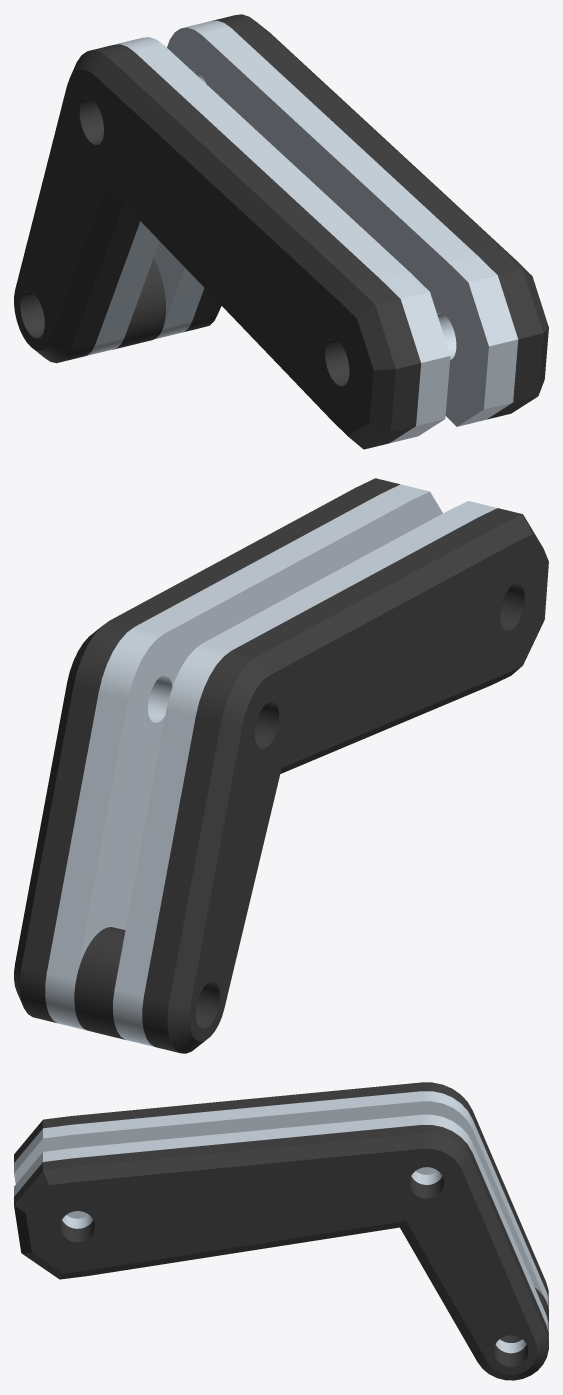
File: Top Back Linkage.glb
3 views of the same model, one above another, from view 1: azimuth 30°, elevation 25°; view 2: azimuth 150°, elevation 25°; view 3: azimuth 270°, elevation 25° (orthographic). The views are drawn at different scales.
Parts seen in each view (by area): view 1: Top Back Linkage; view 2: Top Back Linkage; view 3: Top Back Linkage.
Part boxes in pixels (box(x1,y1,x2,y2)): Top Back Linkage: box(14, 14, 548, 449); Top Back Linkage: box(14, 478, 548, 1053); Top Back Linkage: box(14, 1082, 548, 1380).
Bounding box in the file's own units: 0.019 × 0.036 × 0.0706.
